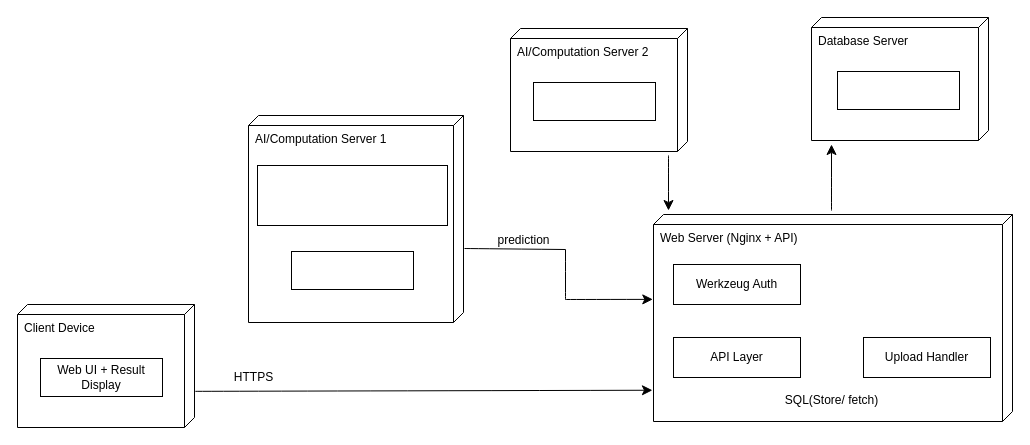
This 1030x445 diagram has some shape labels left out. The shapes that lost their labels are listed below. From the top down, each one's centre as x and y in pixels, then its label:
At (x=594, y=101): "Preprocess + Model".
At (x=898, y=90): "MySQL".
At (x=352, y=195): "Model Services(CNN, DenseNet, MobileNet)".
At (x=352, y=270): "preprocess service".
